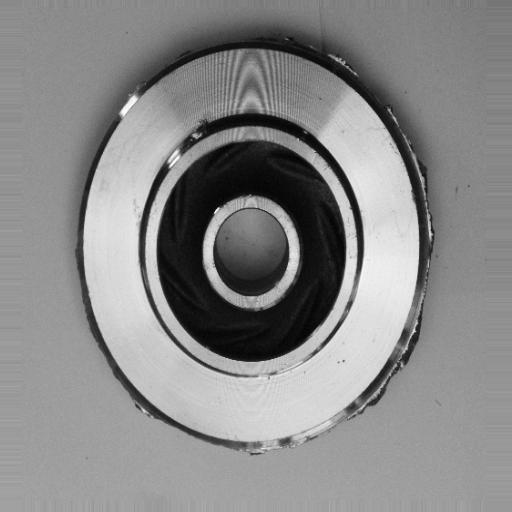casting_with_burr: (74, 33, 442, 460)
scratch: (238, 350, 324, 389), (155, 131, 196, 182)
